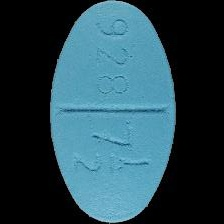51285-367: (0, 0, 224, 224)
